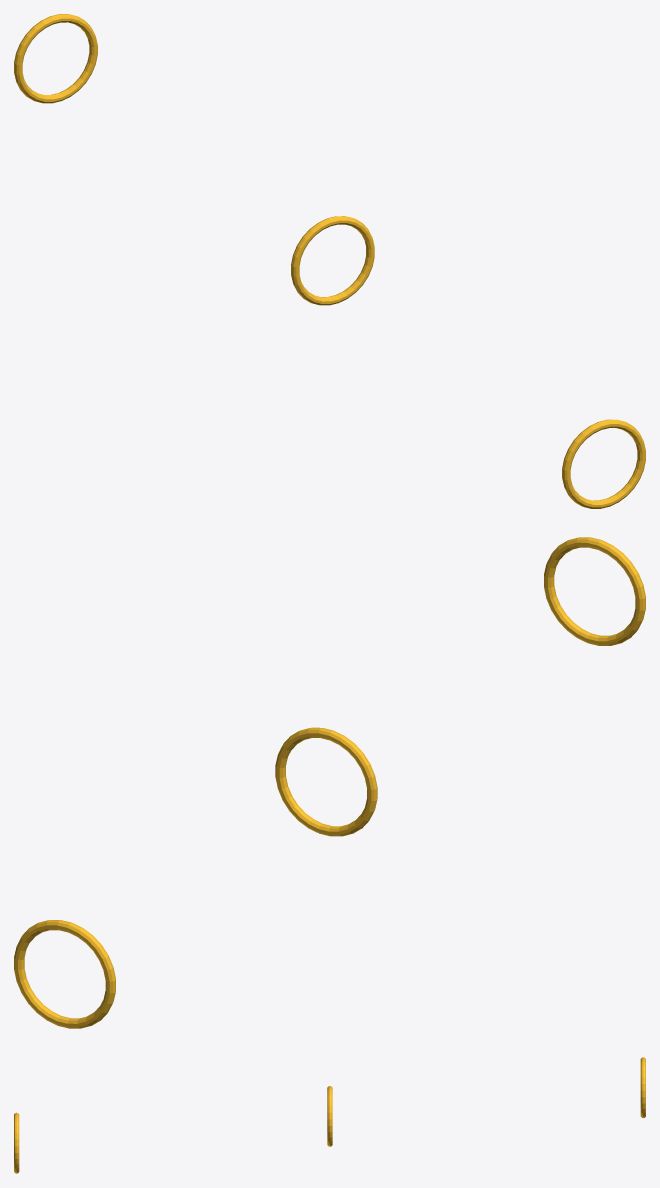
The model's file is espacio_Aros.glb.
3 renders of one model, top to bottom at view 1: azimuth 30°, elevation 25°; view 2: azimuth 150°, elevation 25°; view 3: azimuth 270°, elevation 25°, orthographic. The views are drawn at different scales.
Visible parts, largest first — view 1: Mapa_espacio_Aros; view 2: Mapa_espacio_Aros; view 3: Mapa_espacio_Aros.
Boxes of the visible parts, x1,y1,x2,y2 form: Mapa_espacio_Aros: (14, 14, 645, 508); Mapa_espacio_Aros: (14, 537, 645, 1028); Mapa_espacio_Aros: (14, 1057, 645, 1173).
Bounding box in the file's own units: 29.42 × 29.49 × 182.
Materials: 1 (1 with a texture image).
